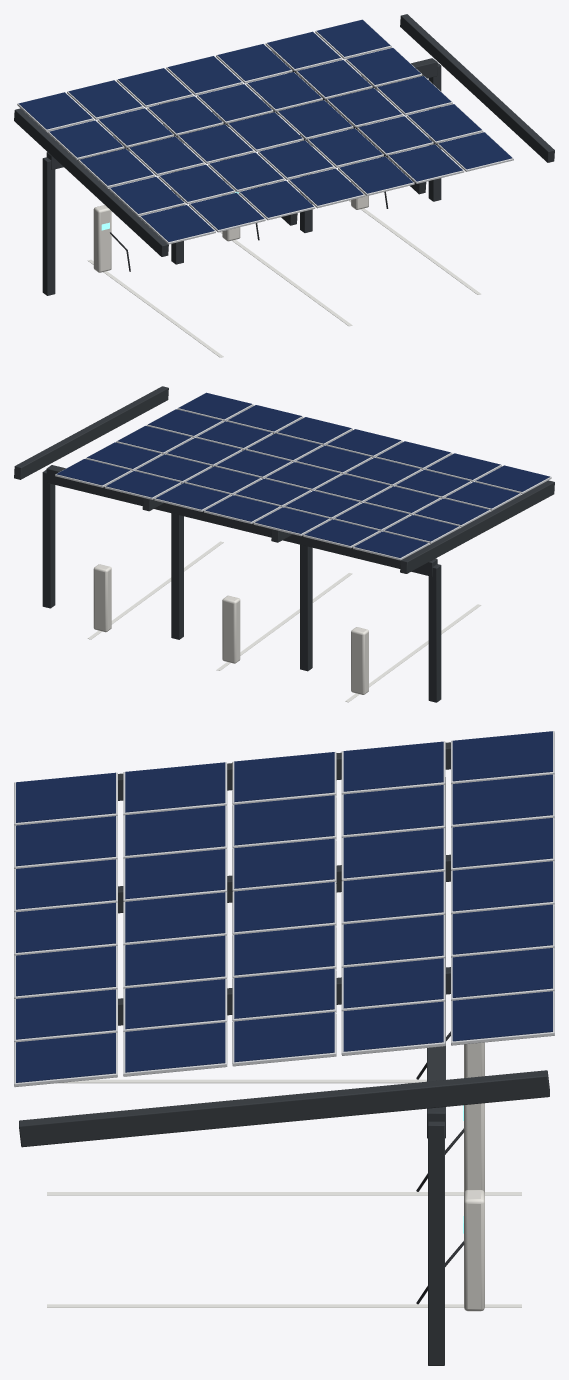
The model's file is solar_carport.fbx.
The picture shows the model from 3 angles, top to bottom: view 1: azimuth 30°, elevation 25°; view 2: azimuth 150°, elevation 25°; view 3: azimuth 270°, elevation 25°; orthographic projection. The views are drawn at different scales.
Parts seen in each view (by area): view 1: solar_carport; view 2: solar_carport; view 3: solar_carport.
Boxes of the visible parts, box(x1,y1,x2,y2) form: solar_carport: box(14, 14, 554, 357); solar_carport: box(14, 386, 554, 702); solar_carport: box(14, 731, 554, 1365).
Size of the model in its own units: 8.58 by 3.44 by 5.7.
